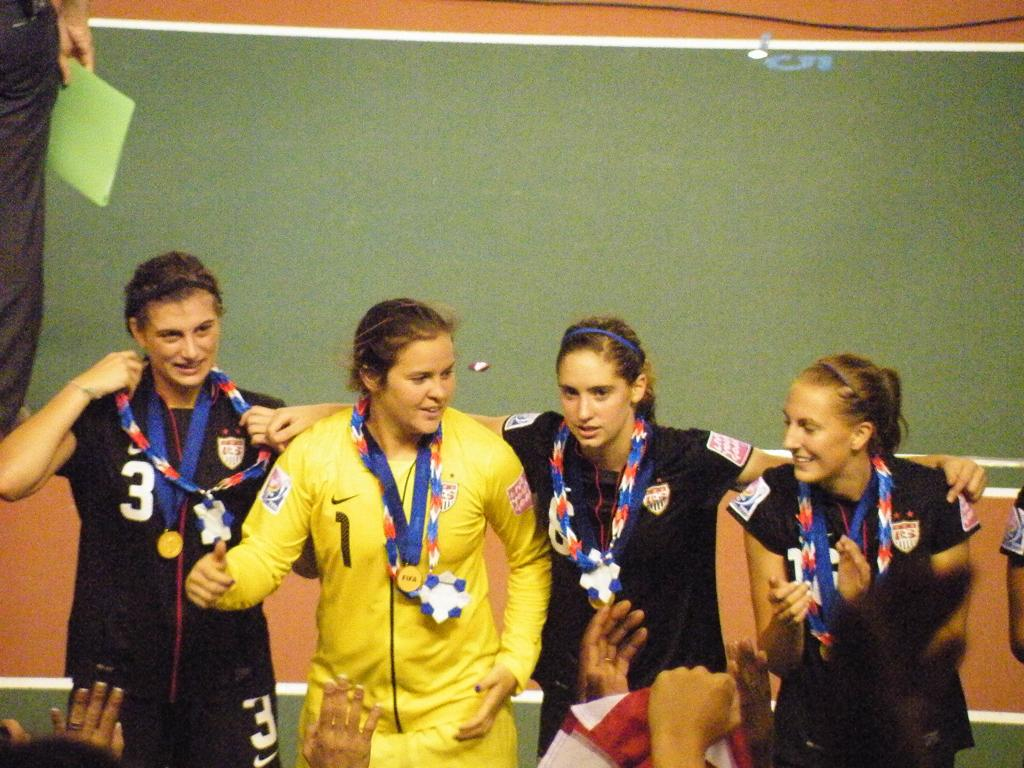face: (560, 350, 632, 448), (144, 292, 216, 386), (386, 340, 454, 436), (782, 384, 846, 484)
